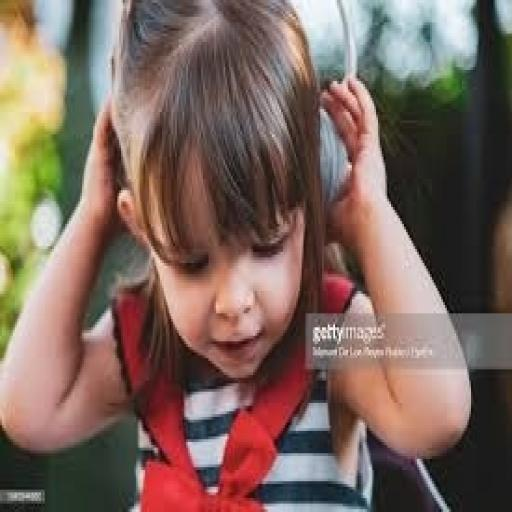listening_to_music: (0, 0, 475, 509)
